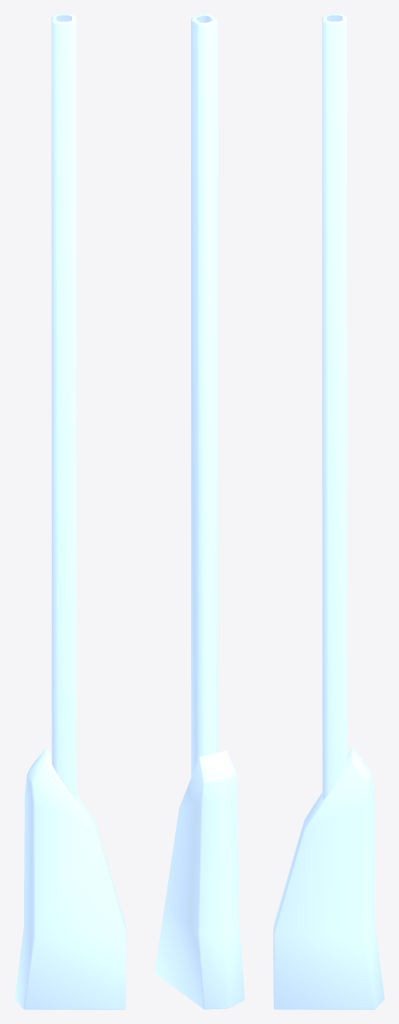
File: StreetLight_Modern.fbx
3 views of the same model, side by side, from view 1: azimuth 90°, elevation 25°; view 2: azimuth 210°, elevation 25°; view 3: azimuth 270°, elevation 25° (orthographic).
Parts seen in each view (by area): view 1: Plane.012; view 2: Plane.012; view 3: Plane.012.
Boxes of the visible parts, bbox=[...] form: Plane.012: bbox=[14, 14, 125, 1009]; Plane.012: bbox=[154, 14, 244, 1009]; Plane.012: bbox=[273, 14, 384, 1009].
Size of the model in its own units: 34.87 by 775 by 79.53.
